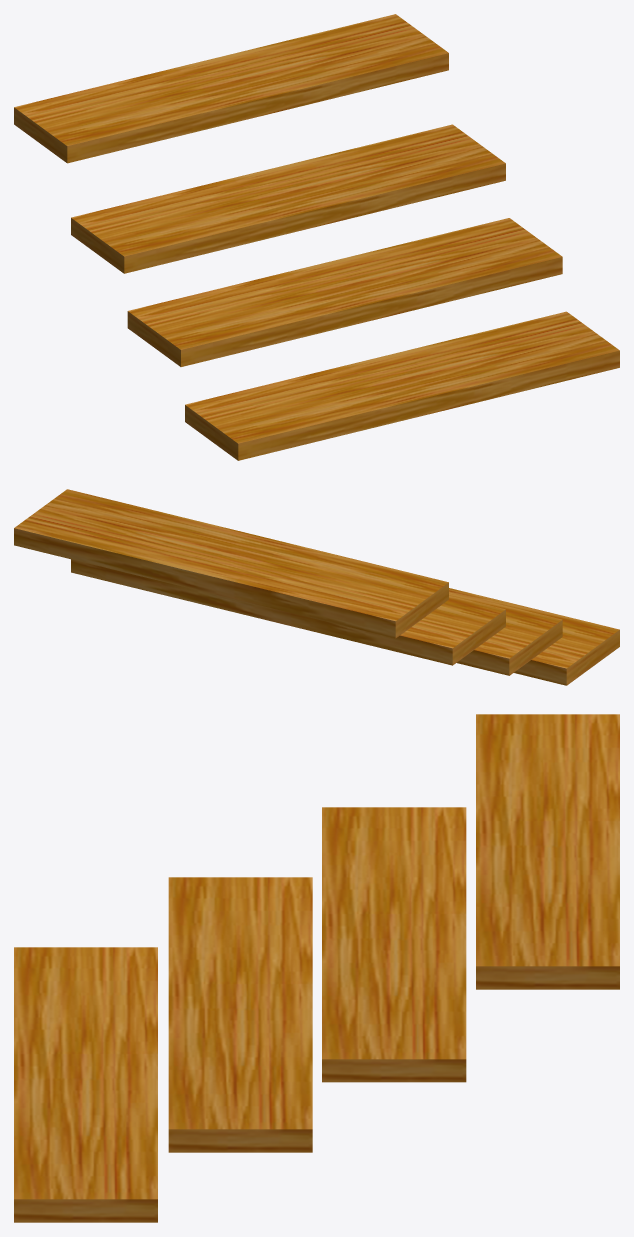
File: upstairs.fbx
The picture shows the model from 3 angles, top to bottom: view 1: azimuth 30°, elevation 25°; view 2: azimuth 150°, elevation 25°; view 3: azimuth 270°, elevation 25°; orthographic projection. The views are drawn at different scales.
Visible parts, largest first — view 1: Upstairs1, Upstairs, Upstairs2, Upstairs3; view 2: Upstairs3, Upstairs2, Upstairs, Upstairs1; view 3: Upstairs1, Upstairs2, Upstairs, Upstairs3.
Boxes of the visible parts, left/top/right/bottom form: Upstairs1: left=127, top=218, right=562, bottom=366; Upstairs: left=185, top=311, right=619, bottom=460; Upstairs2: left=71, top=124, right=505, bottom=273; Upstairs3: left=14, top=14, right=448, bottom=163; Upstairs3: left=14, top=489, right=448, bottom=638; Upstairs2: left=71, top=559, right=505, bottom=665; Upstairs: left=449, top=588, right=619, bottom=685; Upstairs1: left=449, top=592, right=562, bottom=675; Upstairs1: left=168, top=877, right=312, bottom=1152; Upstairs2: left=322, top=807, right=466, bottom=1082; Upstairs: left=14, top=947, right=157, bottom=1222; Upstairs3: left=476, top=714, right=619, bottom=989.
Size of the model in its own units: 23.18 by 11 by 23.58.
